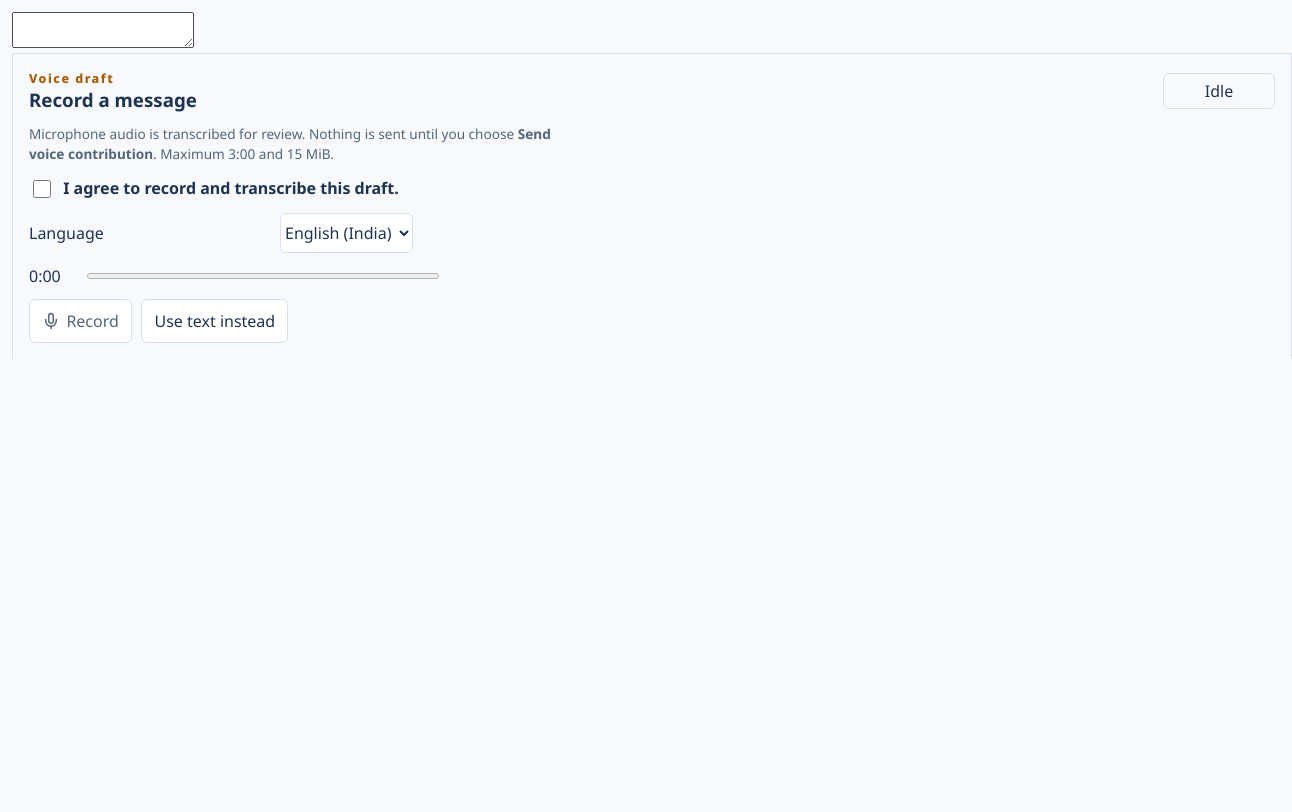
Scenario: never sends until transcript review and explicit send
The image size is (1292, 812).
What coordinates should you click on to do the following:
click the checkbox
I would click on:
 (42, 189)
Its box is [33,180,51,198].
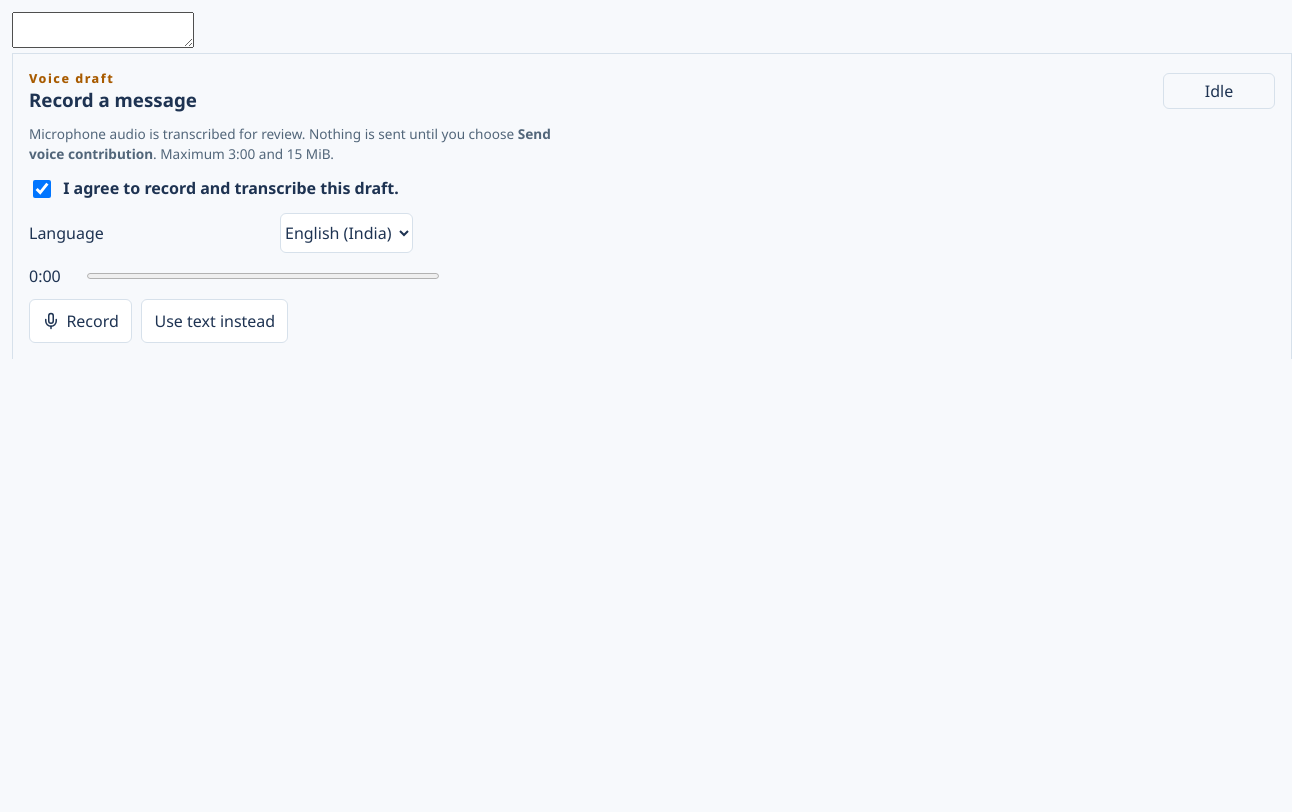
What coordinates should you click on to do the following:
click the button "Record"
I would click on:
 (80, 321)
Its box is [29,299,132,343].
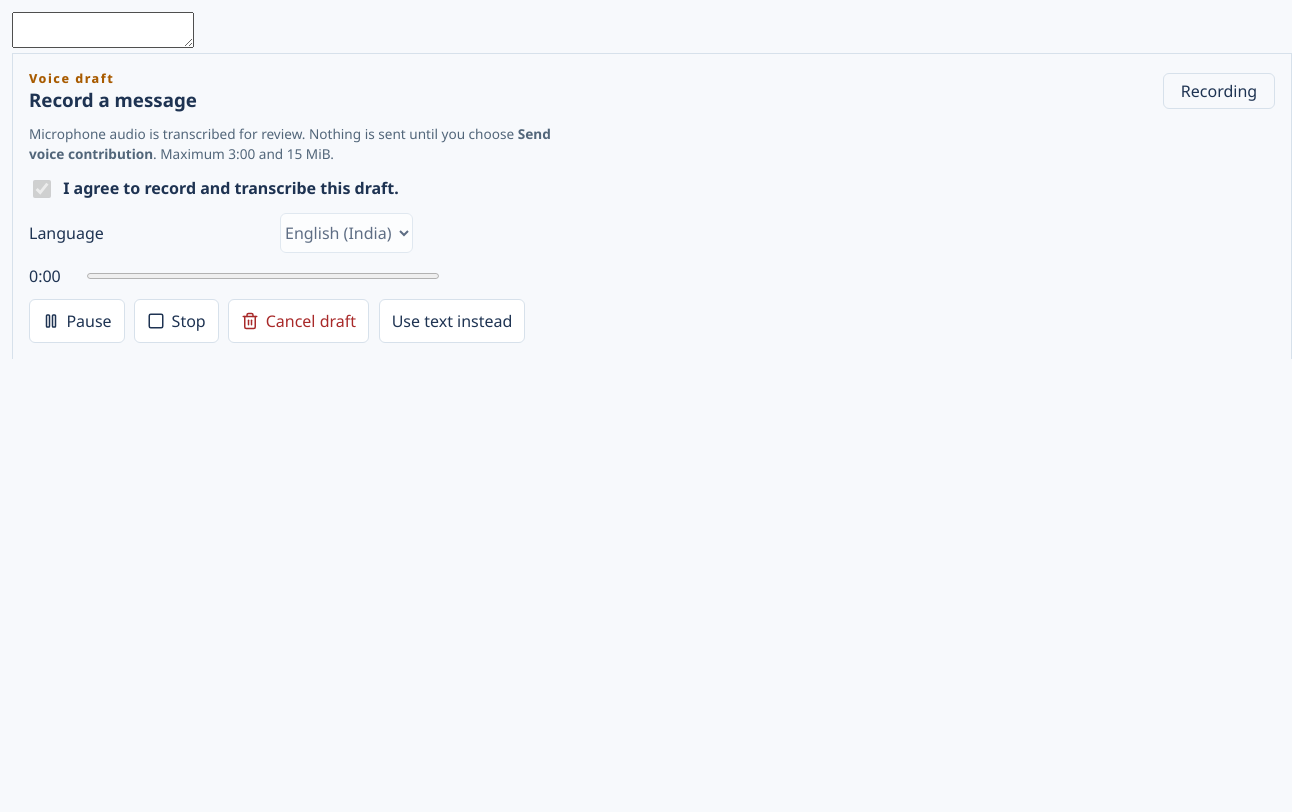
expect the button "Stop" is shown: met
What coordinates should you click on to do the following:
click the button "Stop"
I would click on:
 (176, 321)
Its box is [134,299,219,343].
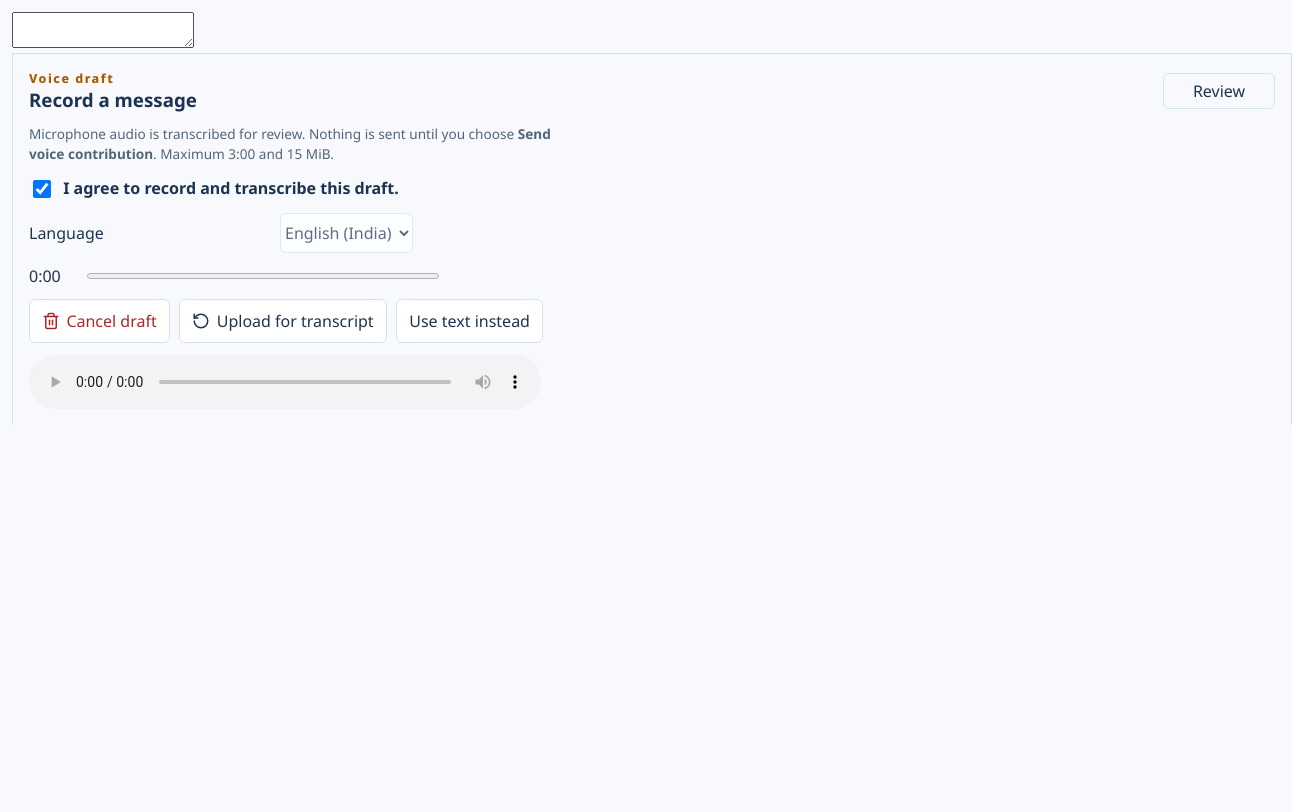
What coordinates should you click on to do the following:
click the button "Upload for transcript"
I would click on:
 (283, 321)
Its box is [179,299,387,343].
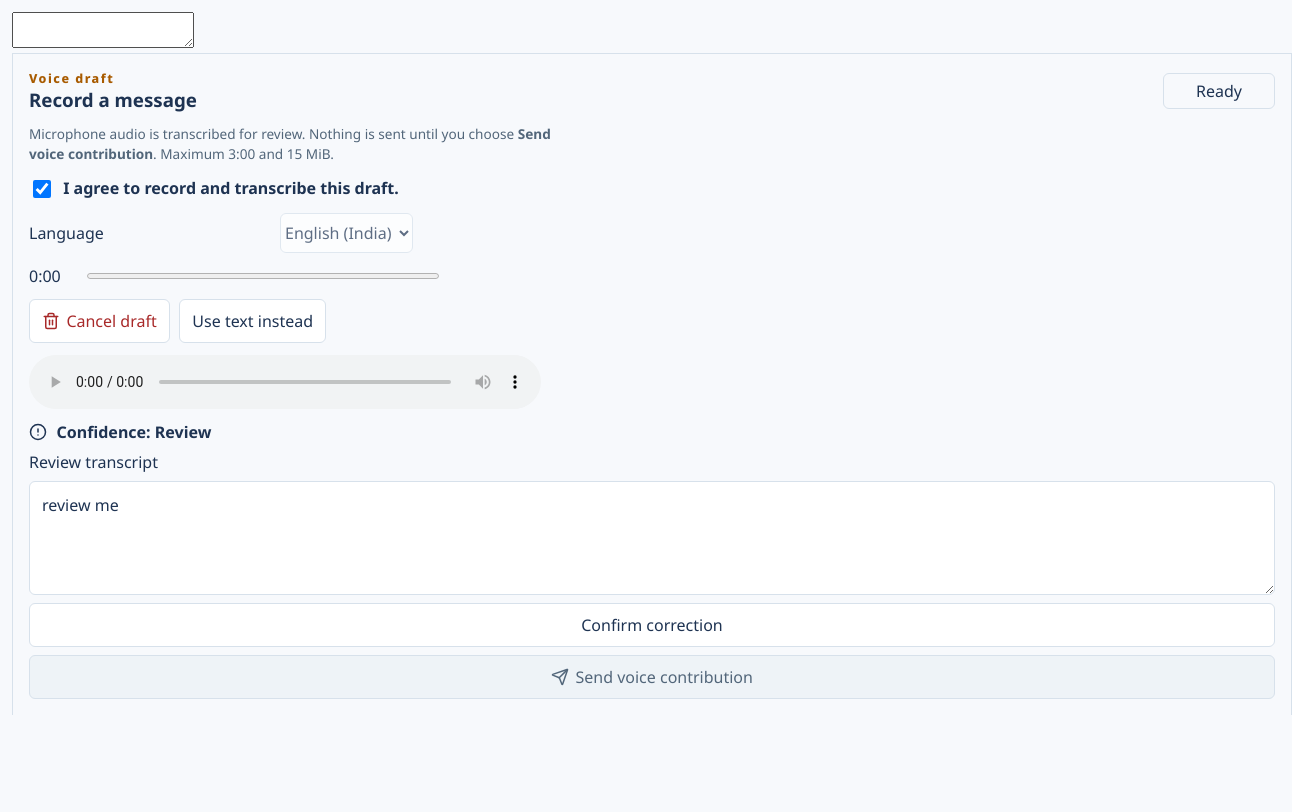
expect the button "Send voice contribution" is disabled: met, box [29,655,1275,699]
What coordinates should you click on to do the following:
click the button "Confirm correction"
I would click on:
 (652, 625)
Its box is [29,603,1275,647].
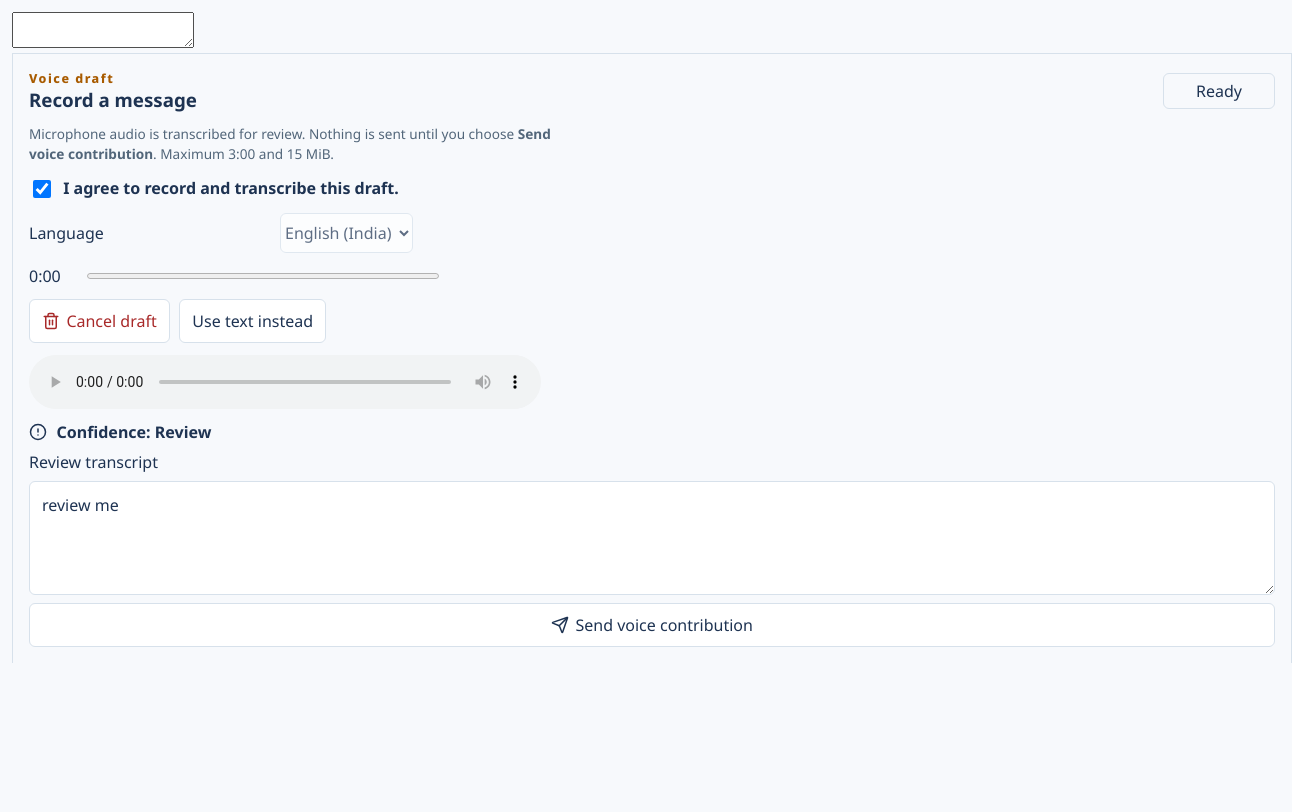
expect the button "Send voice contribution" is enabled: met
What coordinates should you click on to do the following:
click the button "Send voice contribution"
I would click on:
 (652, 625)
Its box is [29,603,1275,647].
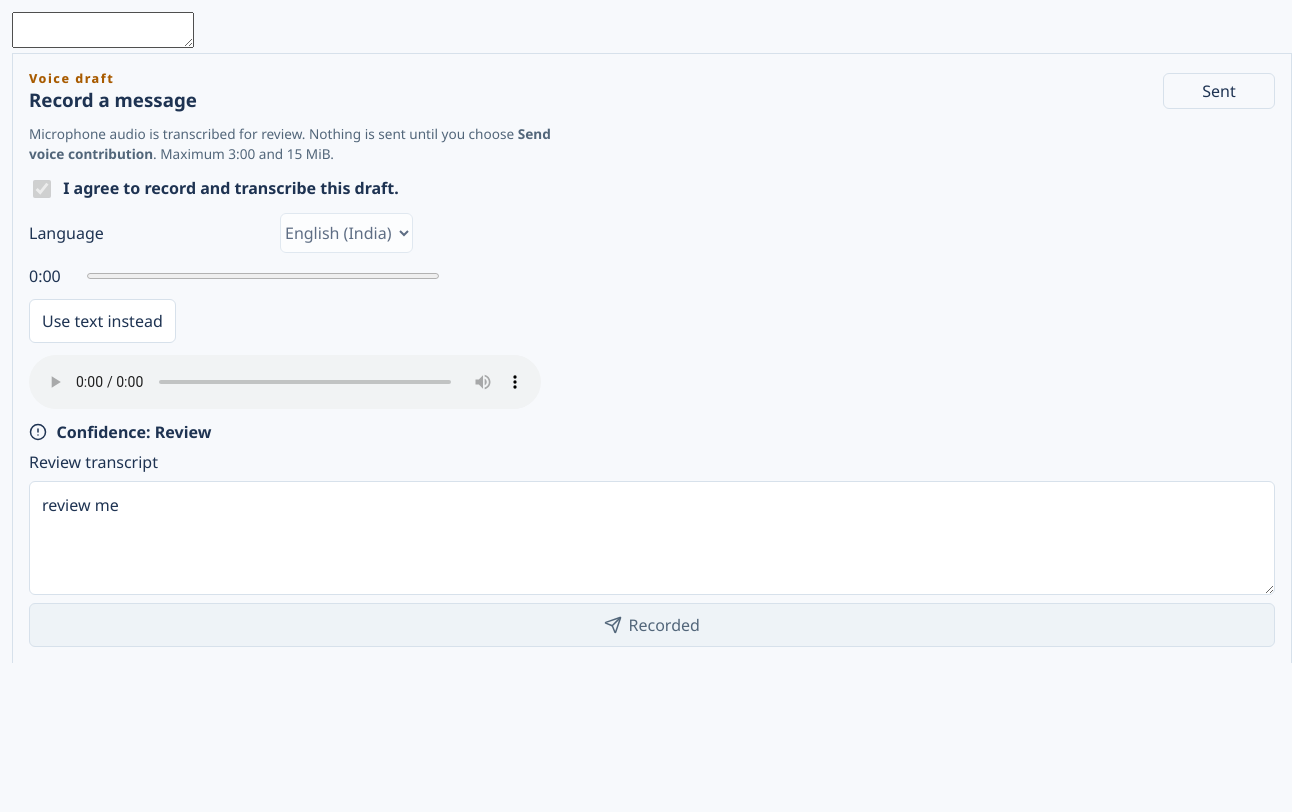
expect the button "Recorded" is shown: met, box [29,603,1275,647]
